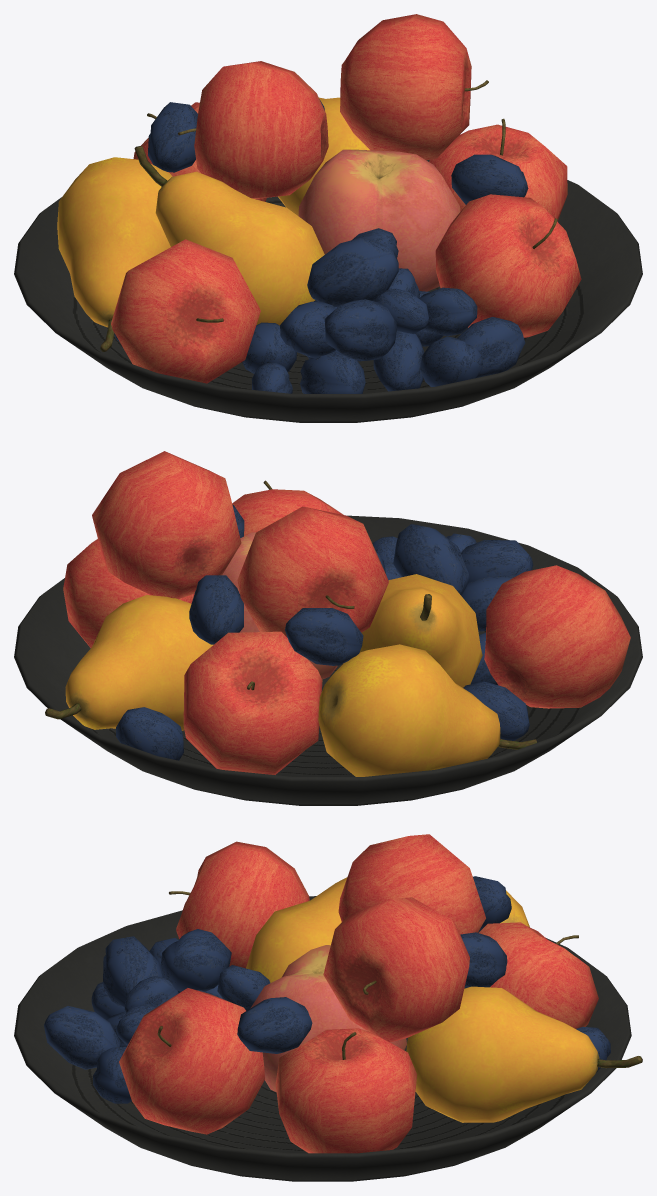
Rendered from other_frutero.fbx.
The picture shows the model from 3 angles, top to bottom: view 1: azimuth 30°, elevation 25°; view 2: azimuth 150°, elevation 25°; view 3: azimuth 270°, elevation 25°; orthographic projection.
Parts seen in each view (by area): view 1: PlateWithFruit; view 2: PlateWithFruit; view 3: PlateWithFruit.
Part boxes in pixels (<box>): PlateWithFruit: <box>14,14,642,422</box>; PlateWithFruit: <box>14,451,642,805</box>; PlateWithFruit: <box>14,834,642,1181</box>.
Size of the model in its own units: 25.01 by 10.72 by 25.51.
